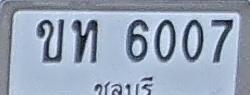0: (154, 19, 176, 62), (182, 19, 204, 62)
6: (126, 19, 148, 62)
7: (211, 18, 233, 63)
A02: (37, 18, 64, 63)
A23: (72, 19, 98, 63)
CBI: (92, 74, 153, 95)
